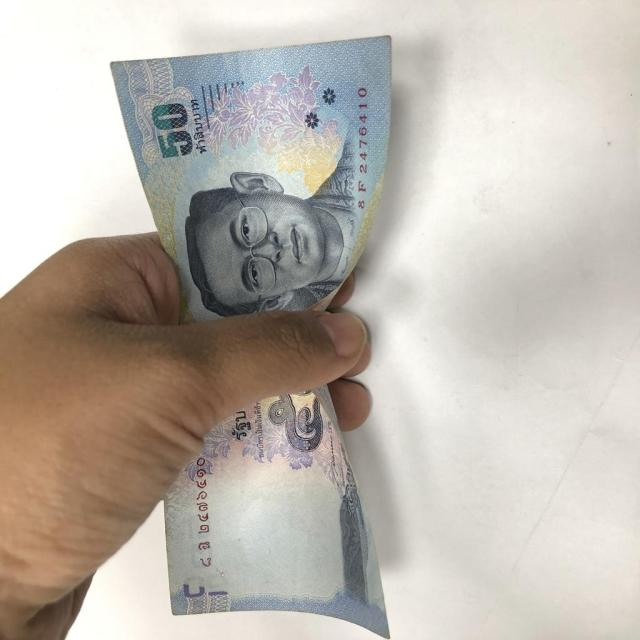THAI50: (109, 36, 393, 325), (162, 386, 389, 639)
